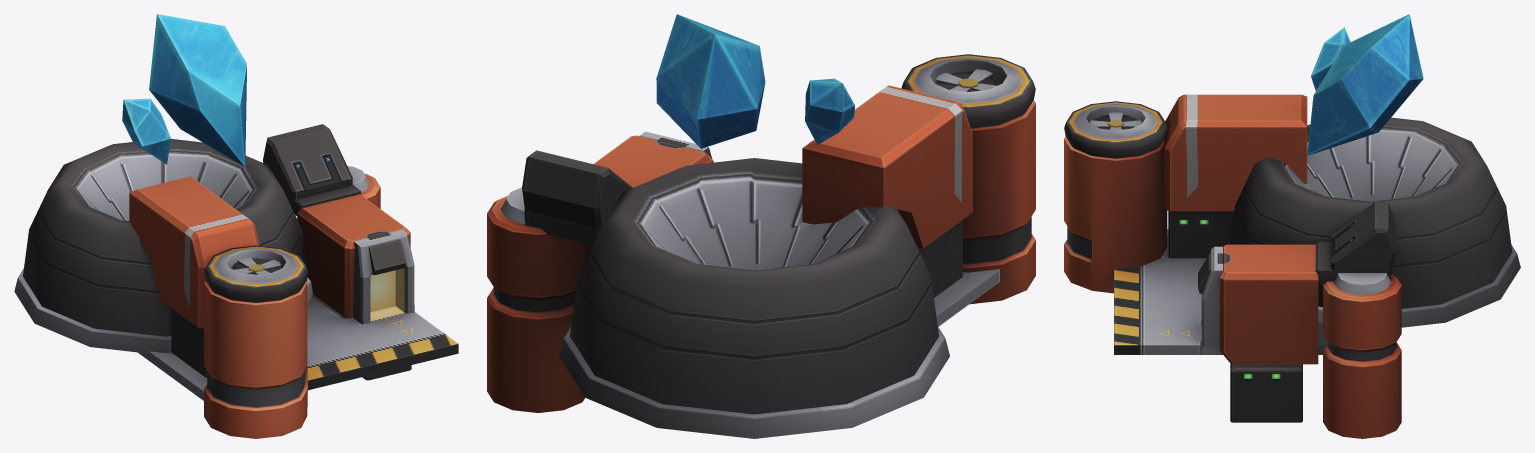
The model's file is Caijichang_lv2.FBX.
3 views of the same model, side by side, from view 1: azimuth 30°, elevation 25°; view 2: azimuth 150°, elevation 25°; view 3: azimuth 270°, elevation 25° (orthographic). The views are drawn at different scales.
Parts seen in each view (by area): view 1: Caijichang_lv2; view 2: Caijichang_lv2; view 3: Caijichang_lv2.
Part boxes in pixels (left/top/right/bottom): Caijichang_lv2: left=14, top=14, right=458, bottom=438; Caijichang_lv2: left=487, top=14, right=1035, bottom=438; Caijichang_lv2: left=1064, top=14, right=1520, bottom=438.
Size of the model in its own units: 1673 by 1580 by 1978.
